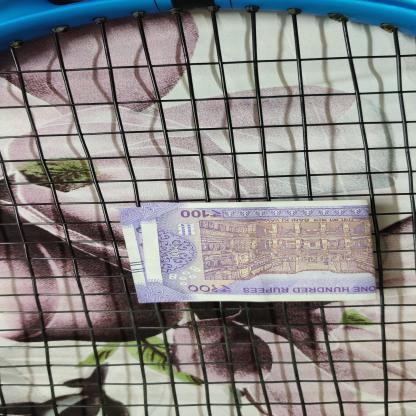New100Back: (117, 200, 377, 304)
